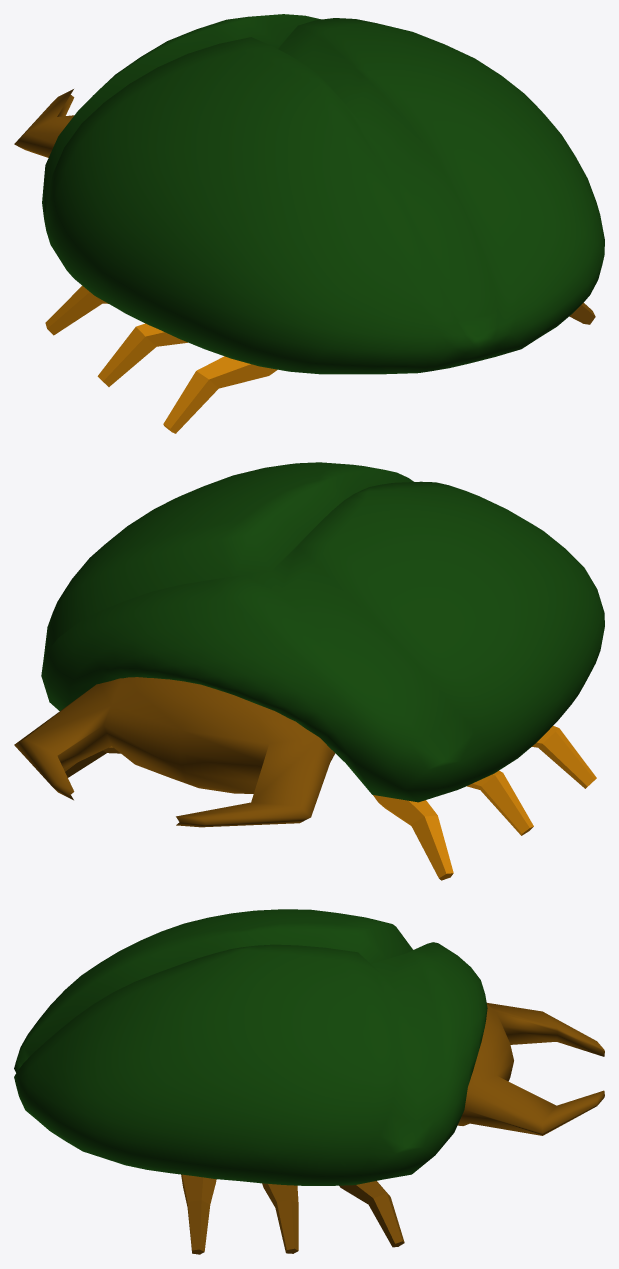
Rendered from otokka.fbx.
The picture shows the model from 3 angles, top to bottom: view 1: azimuth 30°, elevation 25°; view 2: azimuth 150°, elevation 25°; view 3: azimuth 270°, elevation 25°; orthographic projection. The views are drawn at different scales.
Visible parts, largest first — view 1: bugshell.001, Cylinder.005, Cylinder.004, Sphere, Cylinder.003; view 2: bugshell.001, Sphere, Cylinder.003, Cylinder.004, Cylinder.005; view 3: bugshell.001, Sphere, Cylinder.002, Cylinder, Cylinder.001.
Part boxes in pixels (left/top/right/bottom): bugshell.001: left=42, top=14, right=604, bottom=374; Cylinder.005: left=163, top=356, right=277, bottom=433; Cylinder.004: left=97, top=323, right=187, bottom=386; Sphere: left=14, top=89, right=74, bottom=157; Cylinder.003: left=45, top=285, right=108, bottom=335; bugshell.001: left=41, top=462, right=604, bottom=802; Sphere: left=14, top=677, right=335, bottom=827; Cylinder.003: left=373, top=795, right=453, bottom=880; Cylinder.004: left=467, top=770, right=533, bottom=835; Cylinder.005: left=532, top=726, right=596, bottom=788; bugshell.001: left=14, top=909, right=487, bottom=1185; Sphere: left=457, top=1003, right=604, bottom=1135; Cylinder.002: left=181, top=1174, right=216, bottom=1254; Cylinder: left=339, top=1181, right=404, bottom=1247; Cylinder.001: left=262, top=1183, right=298, bottom=1253.
Bounding box in the file's own units: 211 × 123 × 284.
